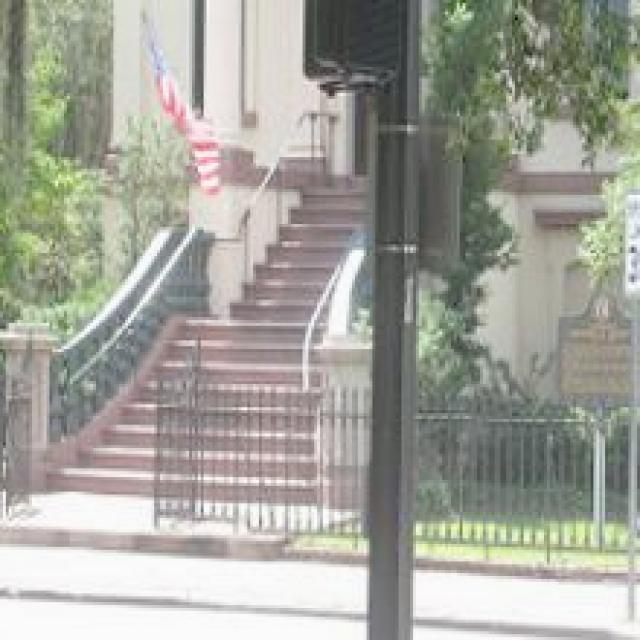upstair: (53, 260, 350, 501)
